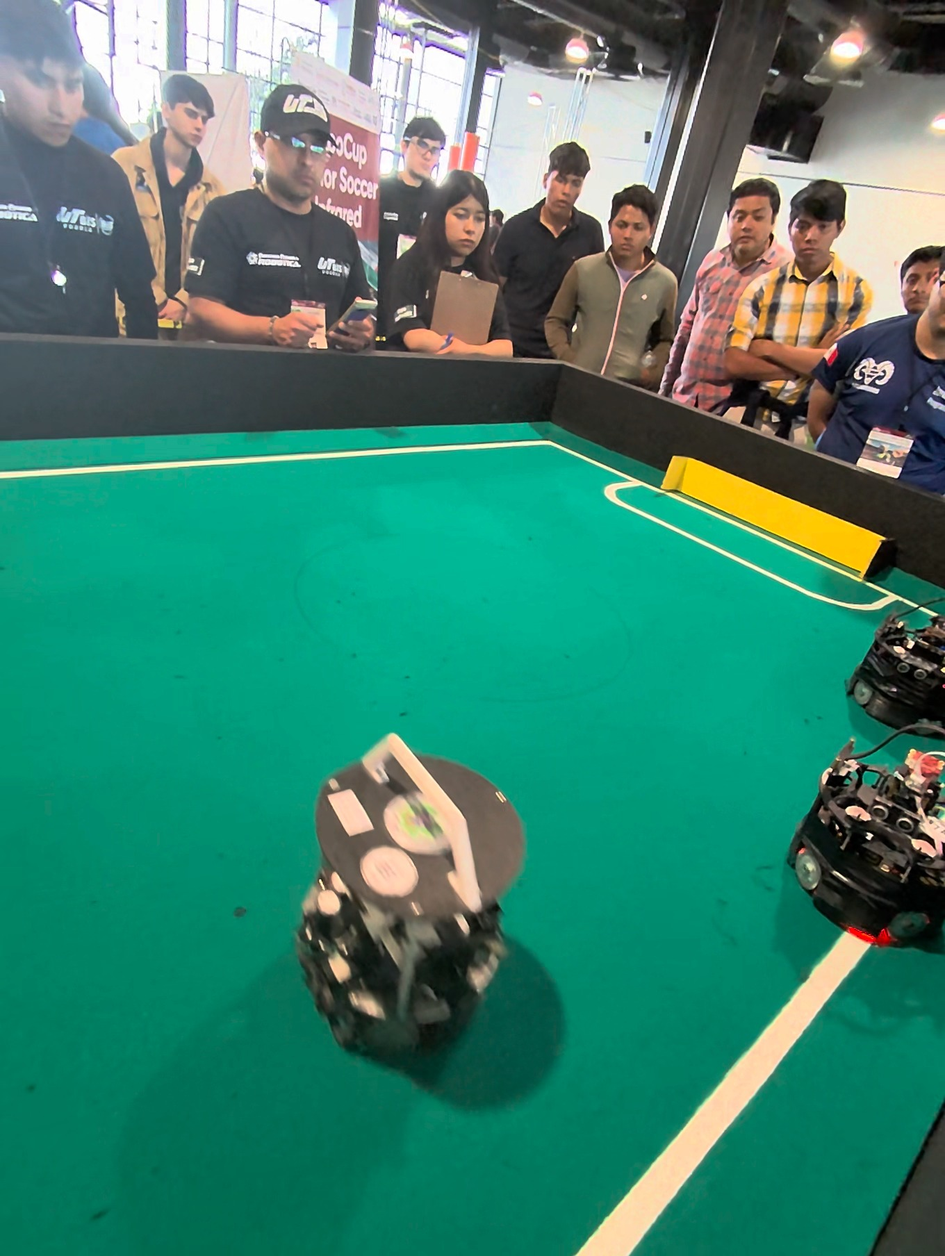Robot: (283, 719, 548, 1092), (797, 730, 945, 967), (847, 579, 945, 746)
